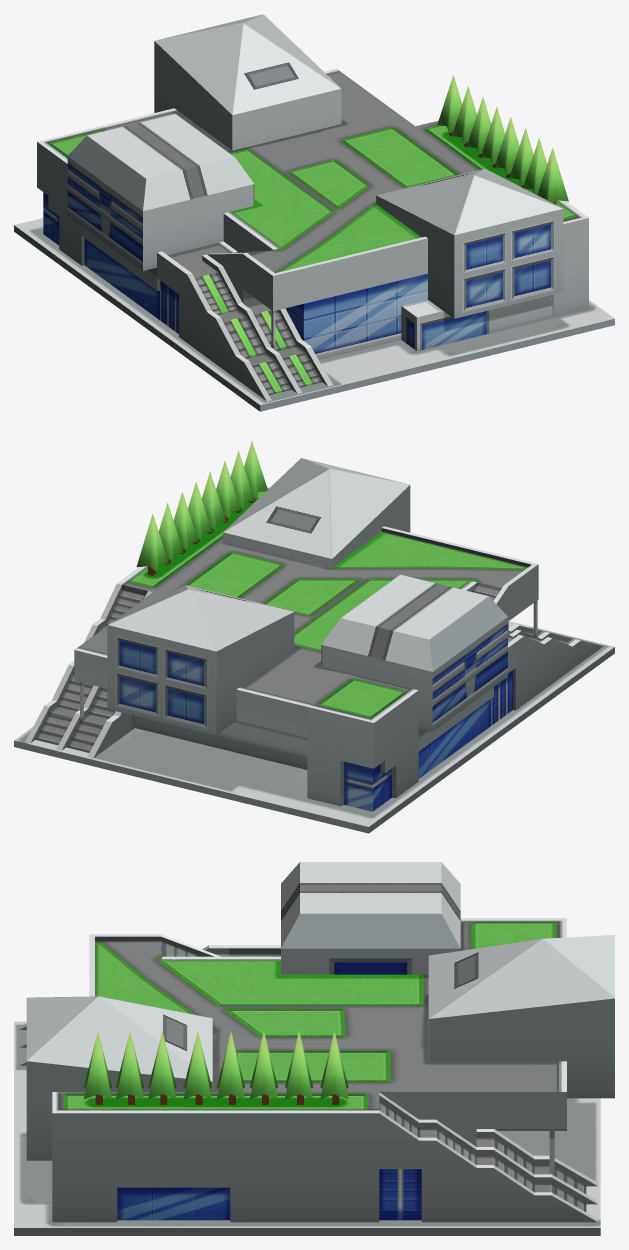
File: yishuzhongxin.FBX
3 renders of one model, top to bottom at view 1: azimuth 30°, elevation 25°; view 2: azimuth 150°, elevation 25°; view 3: azimuth 270°, elevation 25°, orthographic. The views are drawn at different scales.
Parts seen in each view (by area): view 1: yishuzhongxin; view 2: yishuzhongxin; view 3: yishuzhongxin.
Boxes of the visible parts, <box> form: yishuzhongxin: <box>14,14,614,411</box>; yishuzhongxin: <box>14,441,614,833</box>; yishuzhongxin: <box>14,862,614,1235</box>.
Bounding box in the file's own units: 2436 × 1140 × 2955.
1 material, 1 textured.
